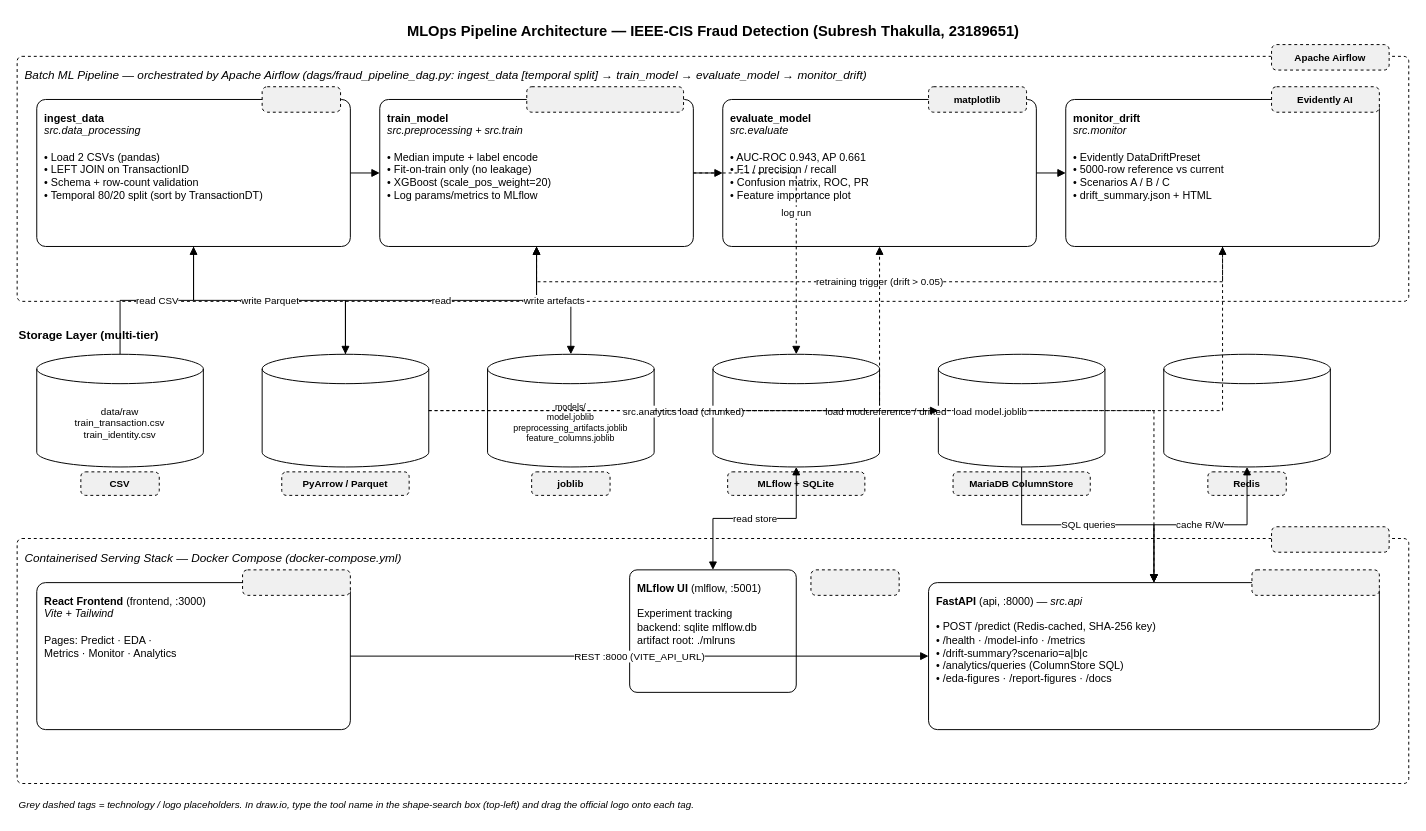
Some shapes in this 1426 by 831 pixel diagram are drawn without their labels. The centre of each missing label's shape, as x and y in pixels:
"data/processed train / test / reference drifted_a / b / c (Parquet, Snappy)" goes at point 345,410.
"Docker Compose" goes at point 1330,539.
"FastAPI + Uvicorn" goes at point 1315,582.
"MariaDB ColumnStore fraud_analytics. fraud_transactions (ENGINE=ColumnStore)" goes at point 1021,410.
"MLflow" goes at point 854,582.
"MLflow store mlruns/mlflow.db experiment: fraud-detection" goes at point 796,410.
"pandas" goes at point 301,99.
"React + Vite" goes at point 296,582.
"Redis prediction cache (SHA-256 key, TTL 3600s)" goes at point 1246,410.
"XGBoost + scikit-learn" goes at point 605,99.
